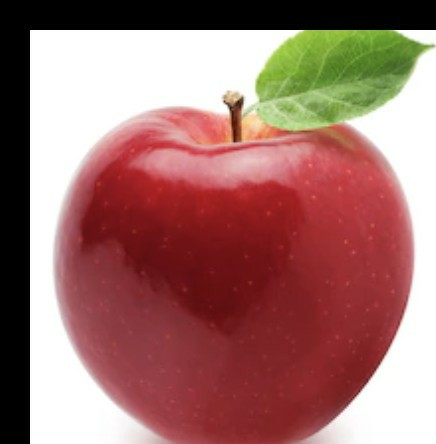fresh_apple: (56, 105, 415, 444)
